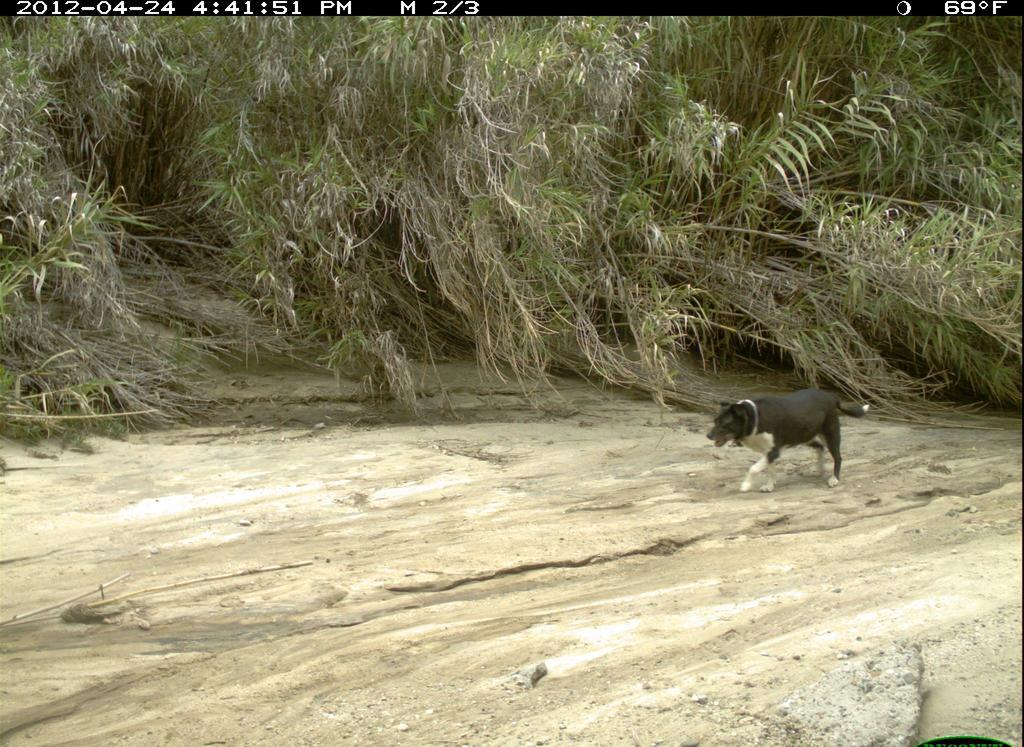dog: (698, 383, 875, 497)
